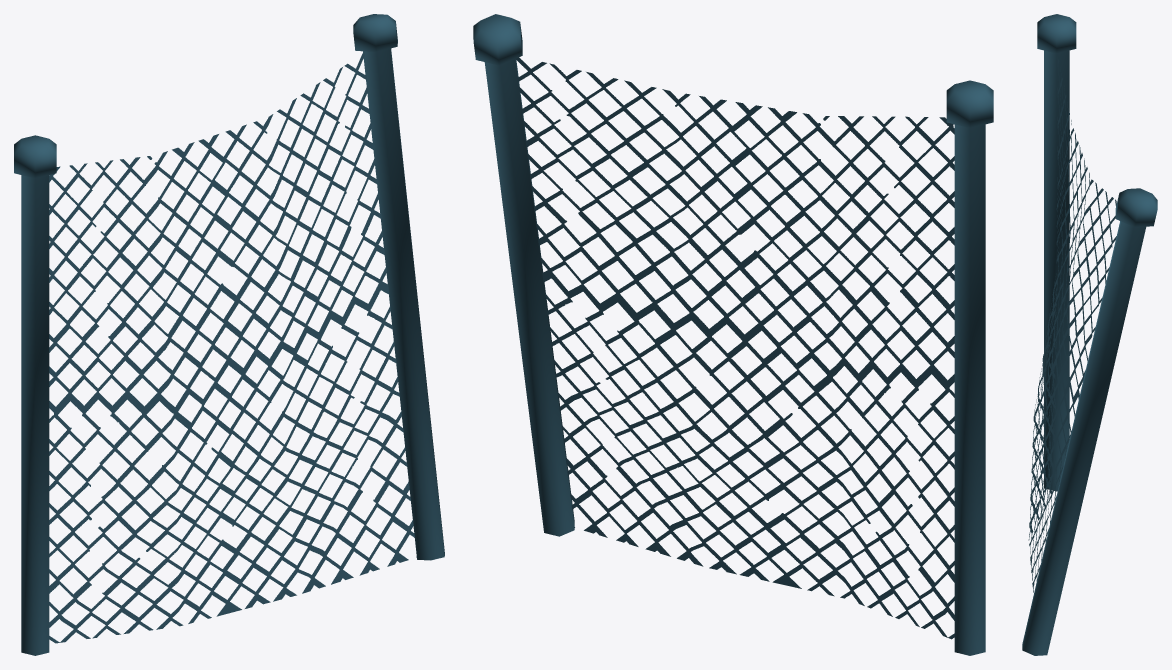
The model's file is ChainlinkfenceVar3.fbx.
3 renders of one model, left to right at view 1: azimuth 30°, elevation 25°; view 2: azimuth 150°, elevation 25°; view 3: azimuth 270°, elevation 25°, orthographic. The views are drawn at different scales.
Visible parts, largest first — view 1: chainfence006; view 2: chainfence006; view 3: chainfence006.
Part boxes in pixels (x1,y1,x2,y2): chainfence006: (14, 14, 444, 655); chainfence006: (473, 14, 993, 655); chainfence006: (1022, 14, 1157, 655).
Size of the model in its own units: 109 by 124 by 32.73.
